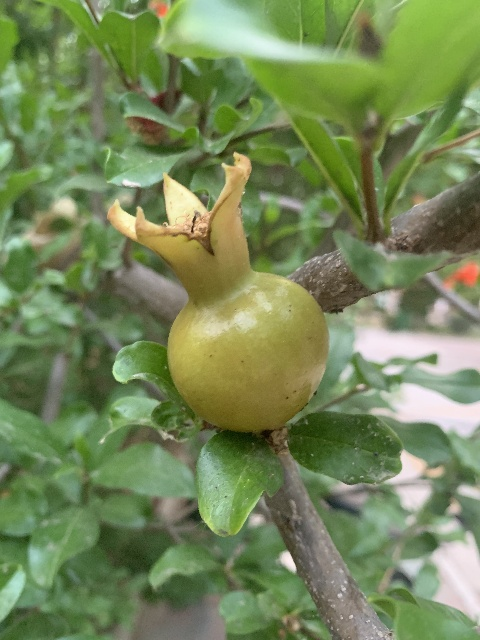mid-growth: (109, 151, 329, 434)
